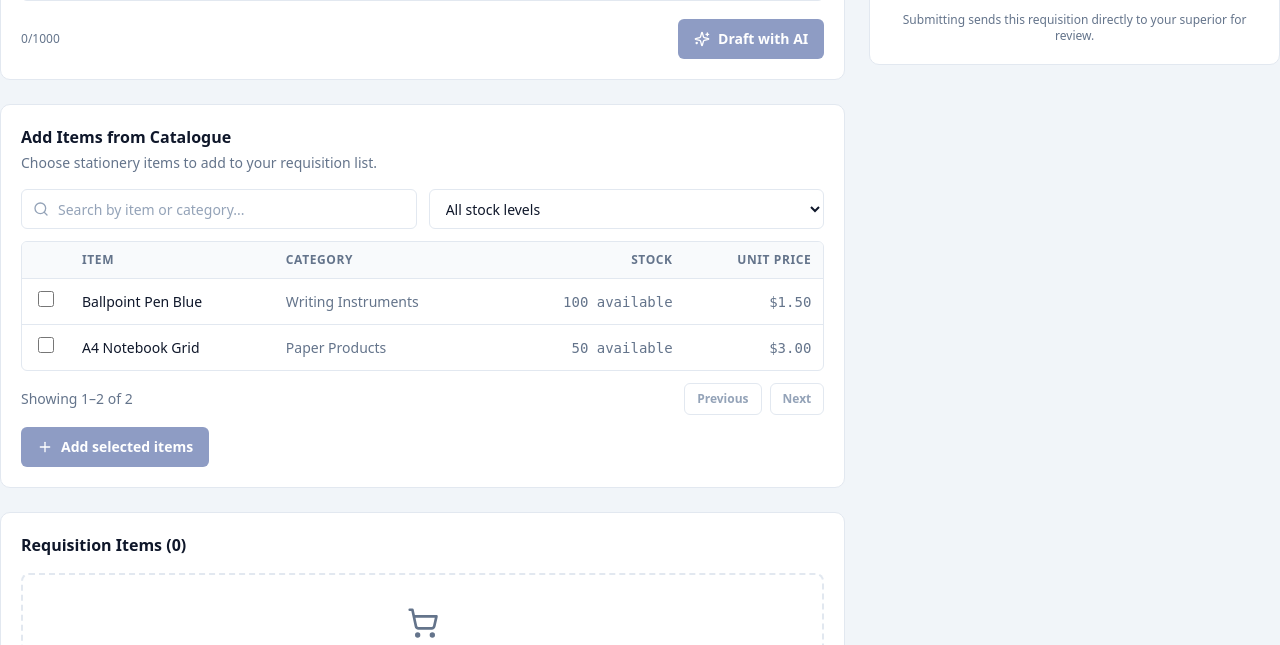
NewRequestPage › tells the user the draft was kept when an over-budget submit is refused
The image size is (1280, 645).
(page scrolled)
Click the checkbox named "select ballpoint pen blue" at (46, 299), box [38,291,54,307]
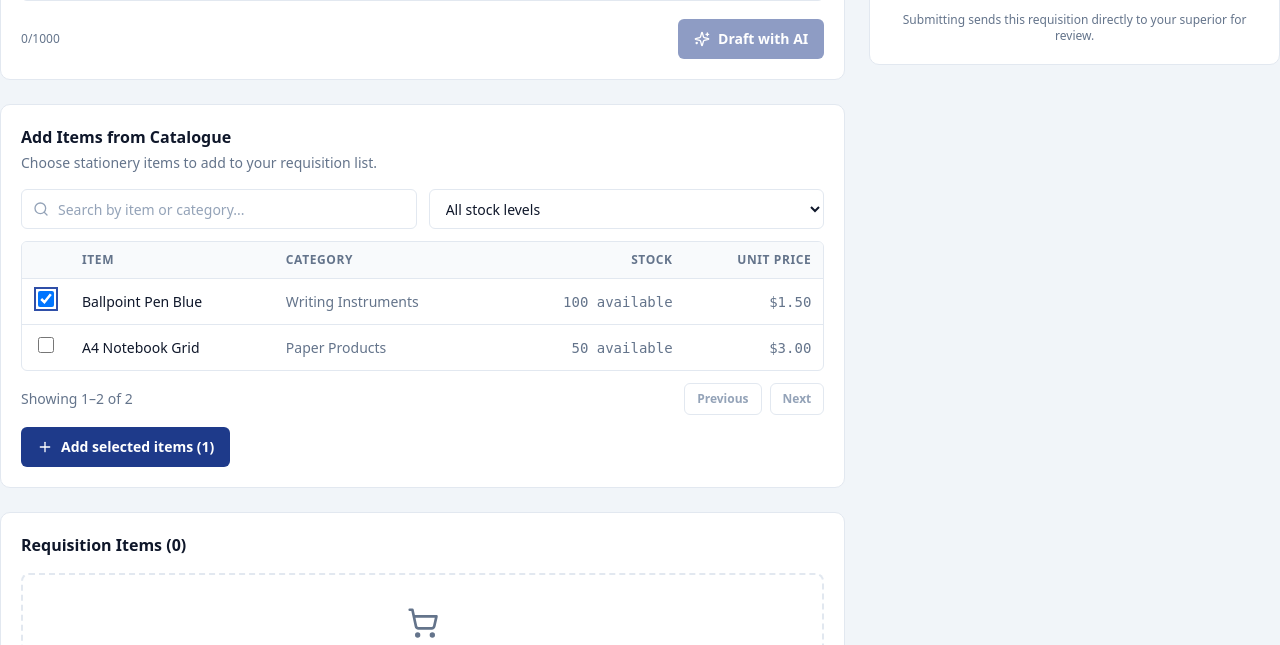
Click the button "Add selected items (1)" at (126, 447), box [21,427,230,467]
(page scrolled)
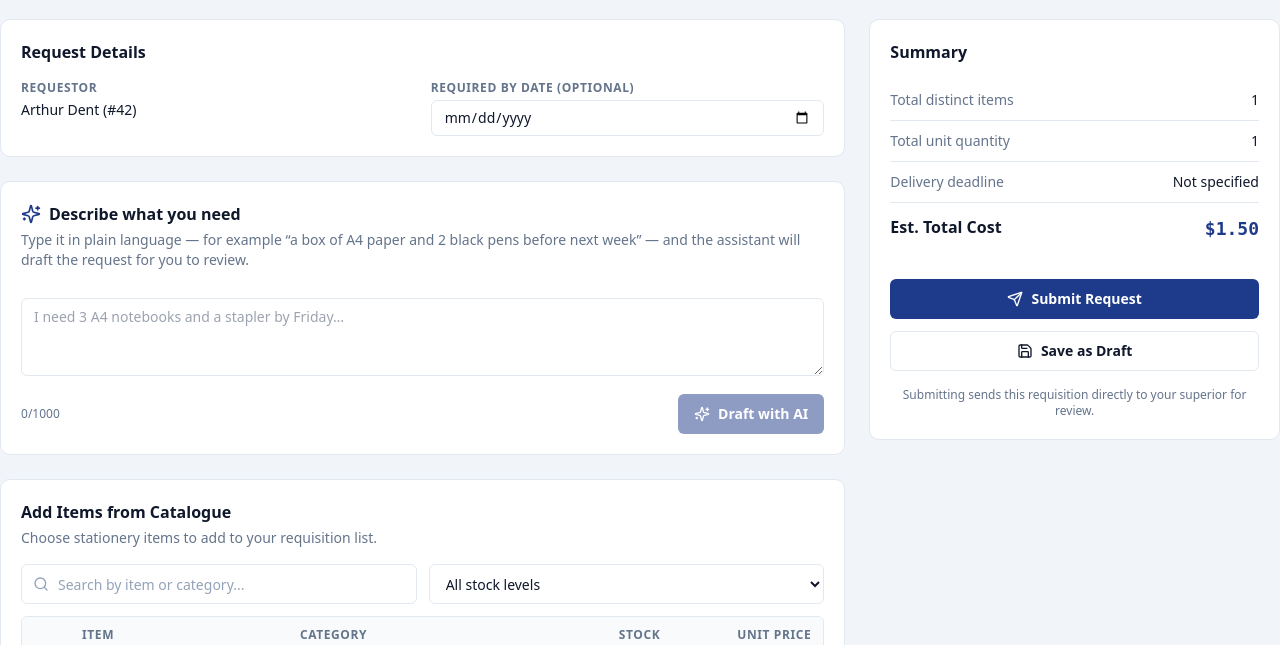
Click the button "Submit Request" at (1075, 299), box [890,279,1259,319]
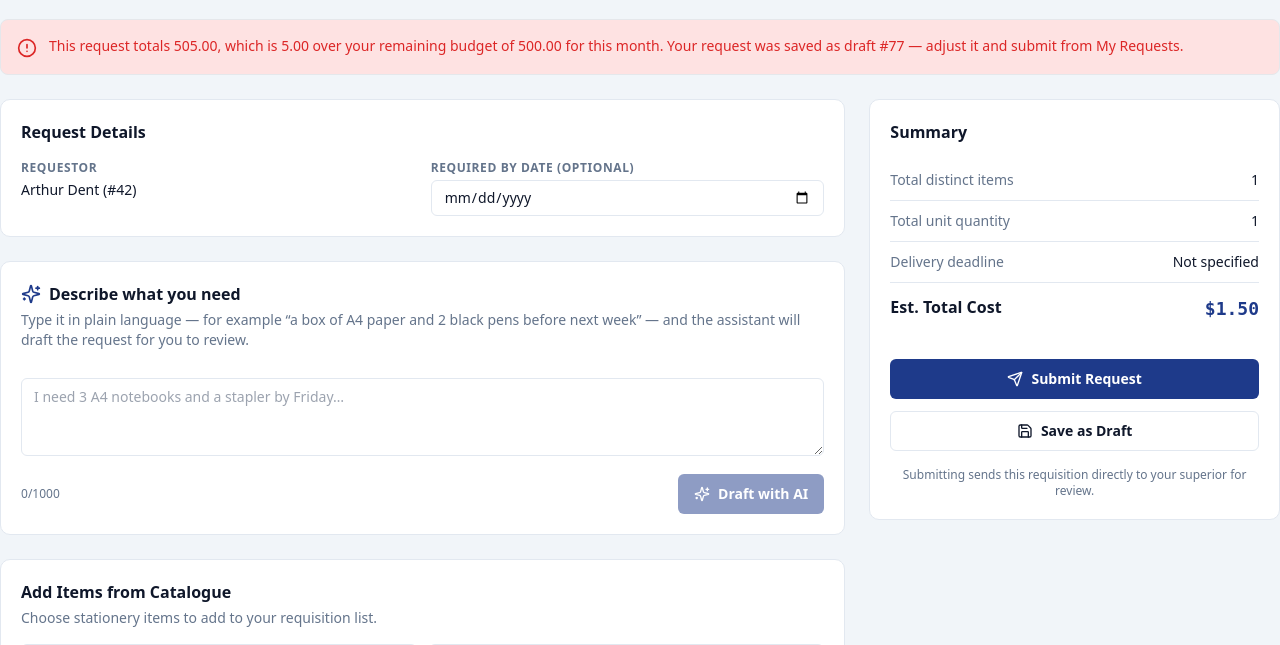
Now the text "over your remaining budget" shows "saved as draft #77", box [49,36,1183,55]
